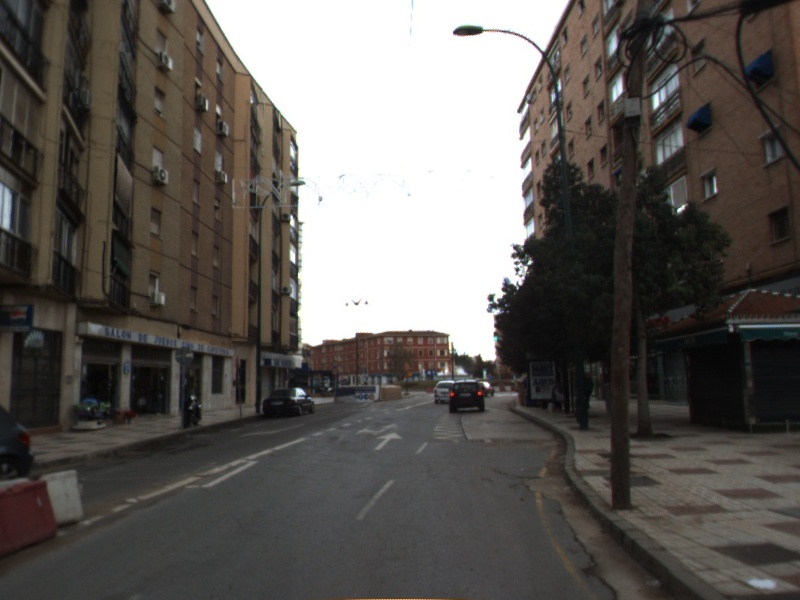STRAIGHT: (372, 430, 404, 452)
STRAIGHT_LEFT: (353, 421, 401, 437)
